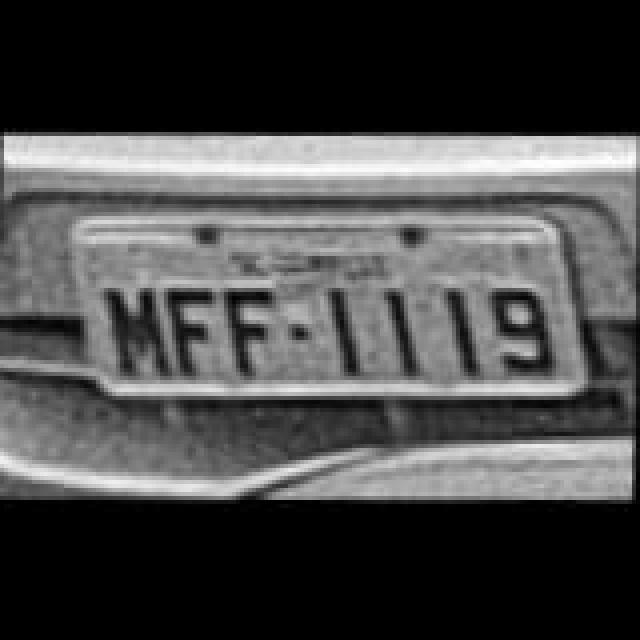1: (380, 288, 432, 380), (440, 286, 492, 378), (326, 286, 374, 378)
9: (486, 286, 566, 382)
F: (162, 284, 234, 380), (218, 284, 290, 380)
M: (100, 282, 176, 378)
